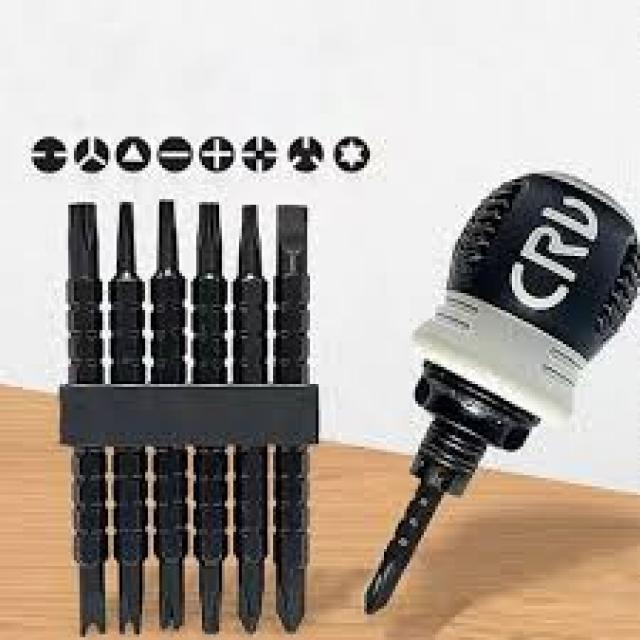screwdriver: (361, 165, 640, 620)
